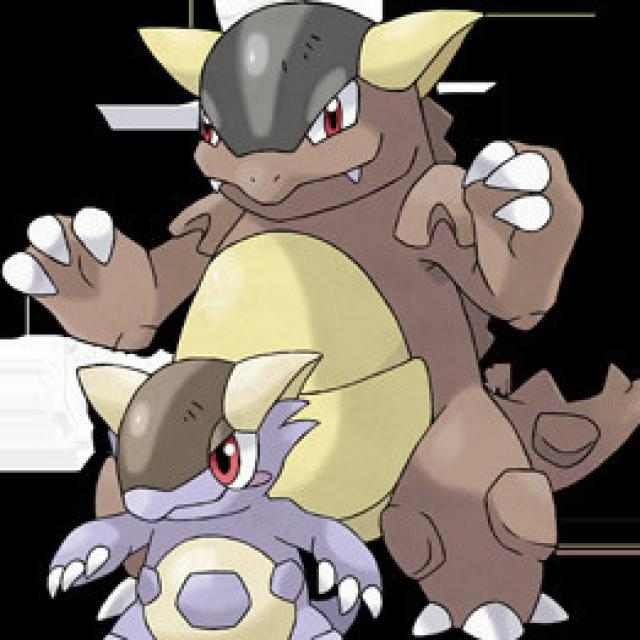Kangaskhan: (44, 5, 573, 640)
